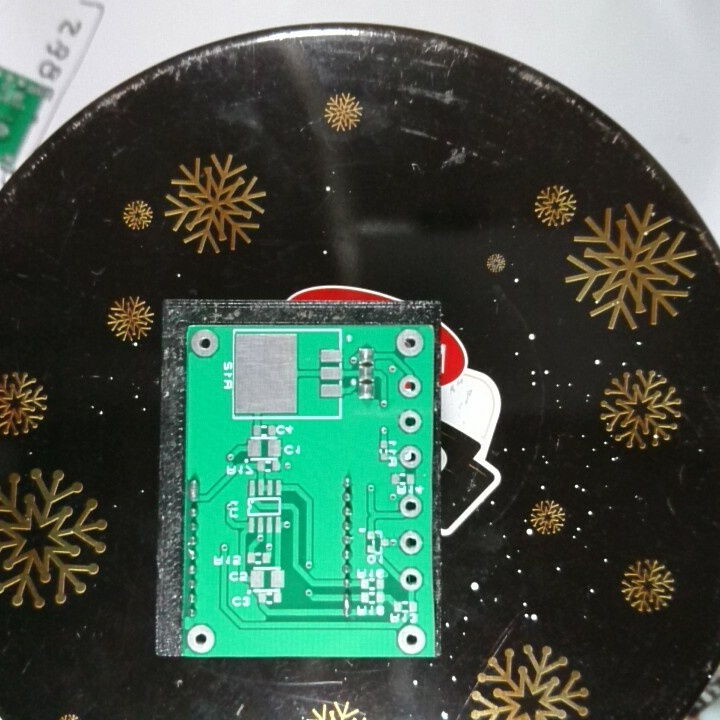F: (188, 327, 221, 361), (394, 326, 426, 360), (396, 622, 426, 655), (186, 622, 217, 653), (395, 443, 424, 469), (397, 493, 424, 520), (398, 566, 425, 593), (399, 529, 424, 558), (397, 409, 423, 435), (397, 375, 422, 400)
P: (340, 591, 355, 618), (187, 476, 202, 503)
